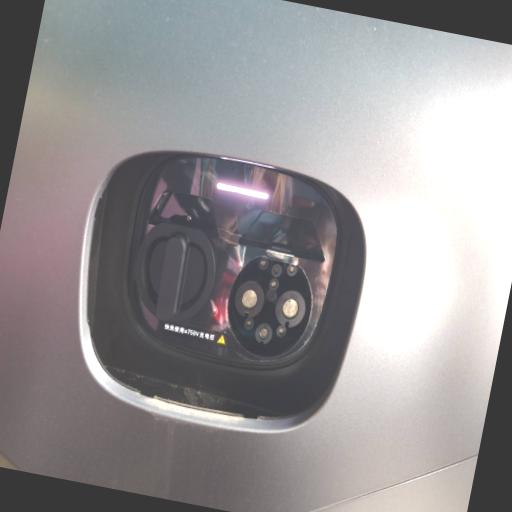DC_charging_port: (217, 248, 323, 368)
DC_hole: (270, 286, 310, 334), (230, 277, 269, 322)
PE: (252, 321, 276, 347)
